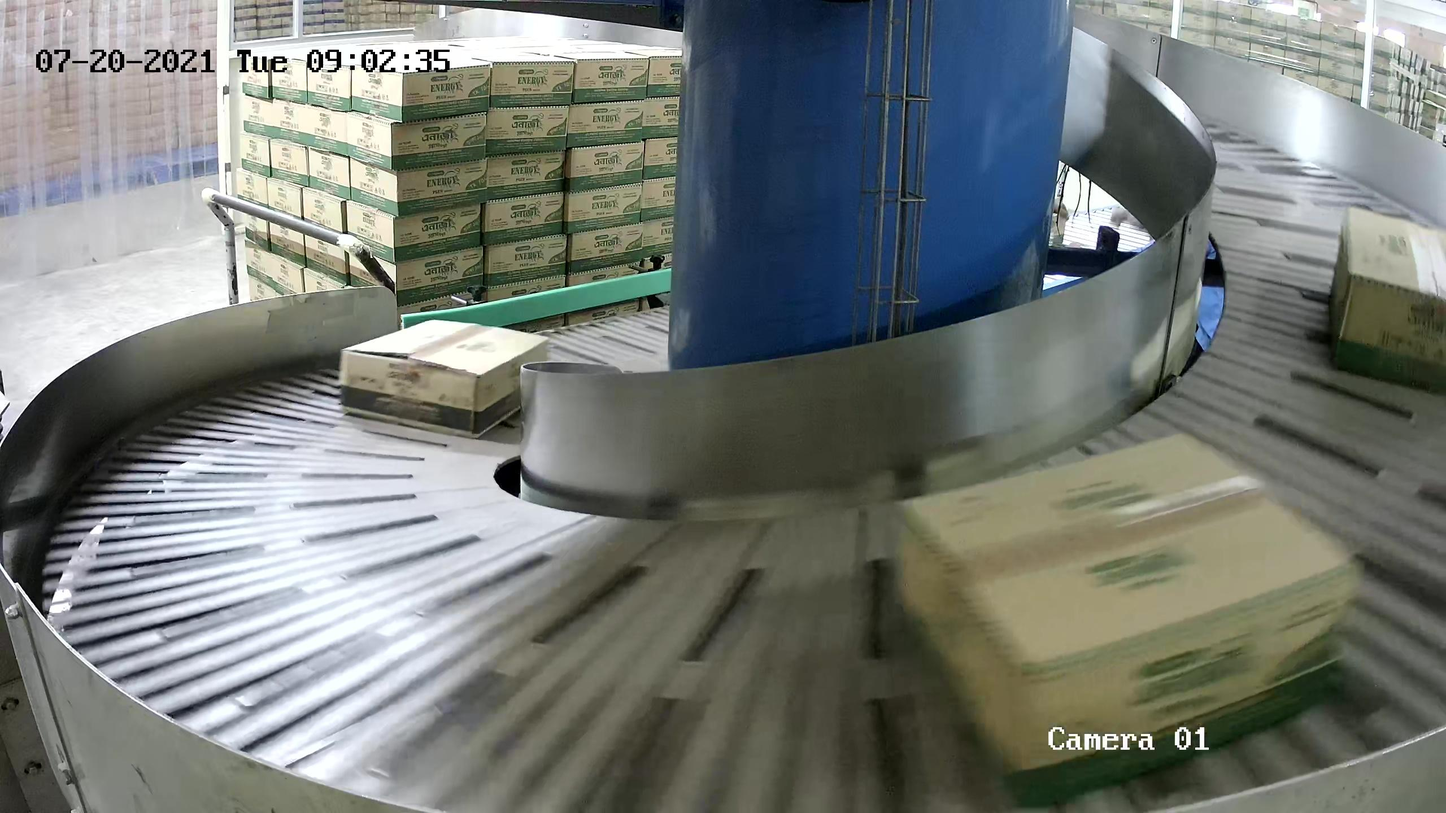Box: (892, 427, 1367, 813), (339, 318, 551, 438), (1326, 204, 1446, 394)
